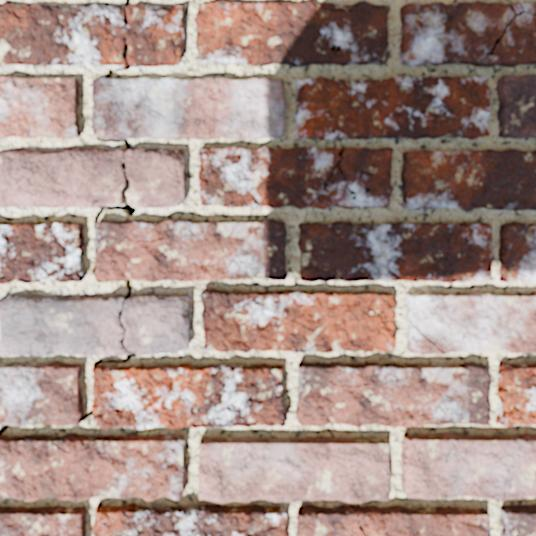brick: (199, 436, 390, 502), (296, 362, 490, 426), (196, 0, 387, 65), (93, 364, 286, 428), (0, 434, 184, 501), (295, 76, 490, 138), (201, 290, 395, 352), (92, 78, 285, 139), (199, 147, 392, 208), (298, 222, 493, 282), (95, 220, 285, 281), (401, 433, 535, 499), (400, 1, 535, 66), (406, 292, 535, 354), (402, 150, 535, 209), (93, 504, 286, 535), (297, 505, 490, 535), (0, 362, 83, 425), (0, 223, 83, 283), (0, 76, 78, 138), (0, 506, 85, 535), (497, 75, 535, 137), (497, 363, 535, 425), (499, 223, 535, 281), (500, 505, 535, 535), (522, 3, 535, 12), (513, 2, 520, 12)
broken_brick: (0, 3, 185, 67), (0, 147, 185, 208), (0, 294, 128, 356), (121, 293, 190, 356)
crack: (93, 278, 137, 365), (93, 161, 136, 227), (486, 1, 535, 55), (321, 147, 357, 200), (361, 297, 396, 335), (408, 320, 445, 354), (104, 39, 131, 79), (443, 223, 471, 261), (308, 0, 354, 12), (95, 137, 130, 151), (122, 0, 130, 27), (81, 409, 93, 420), (0, 423, 11, 434), (357, 524, 366, 535), (42, 423, 52, 428), (91, 265, 96, 274), (93, 113, 100, 118), (54, 351, 69, 353)
